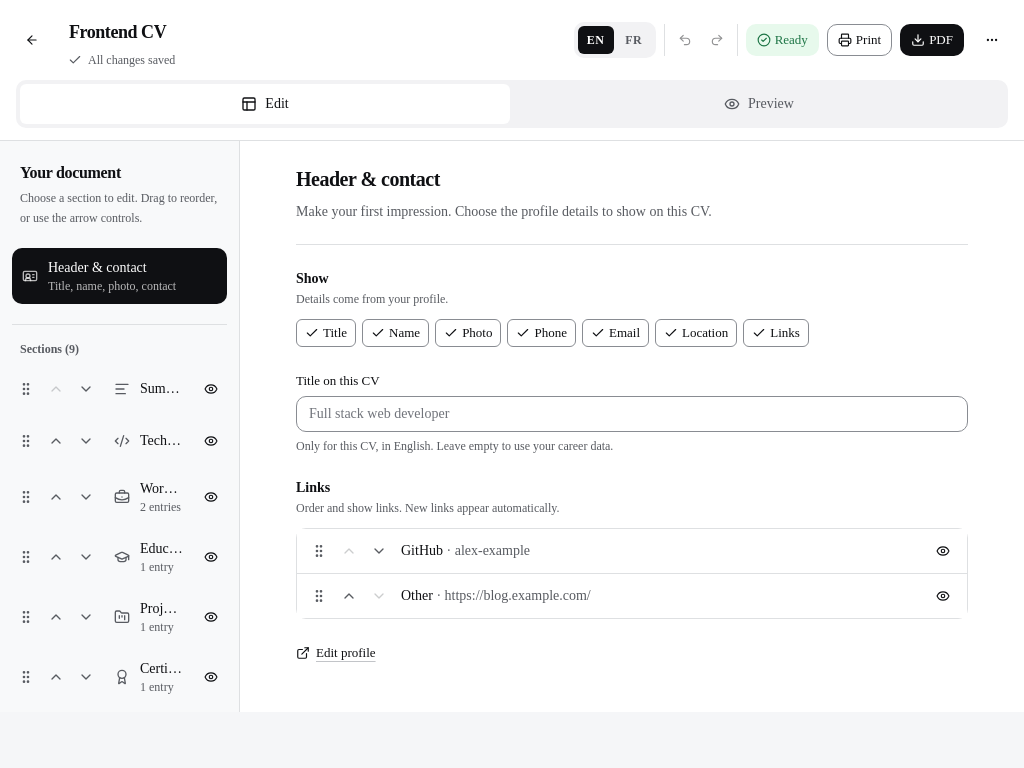
Test: CV builder › switches the CV to French and lists what must be translated first
Click the radio button with aria-label "French": click(634, 40) [616,26,652,54]
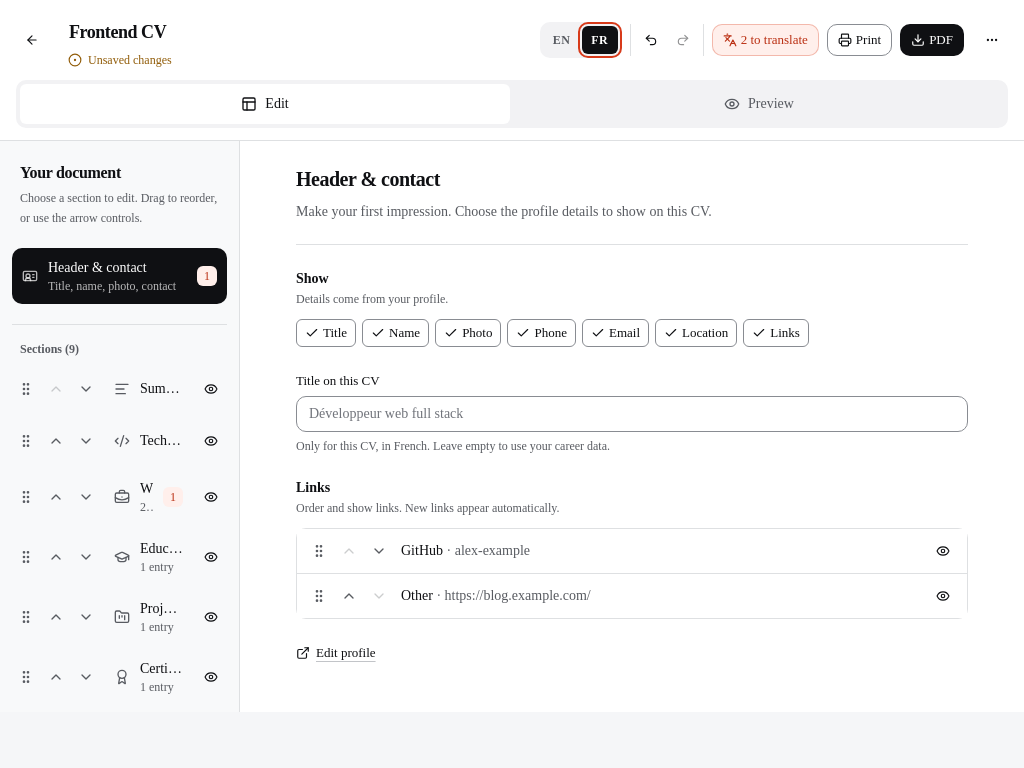
Click the button "2 to translate": click(765, 40) [712,24,819,56]
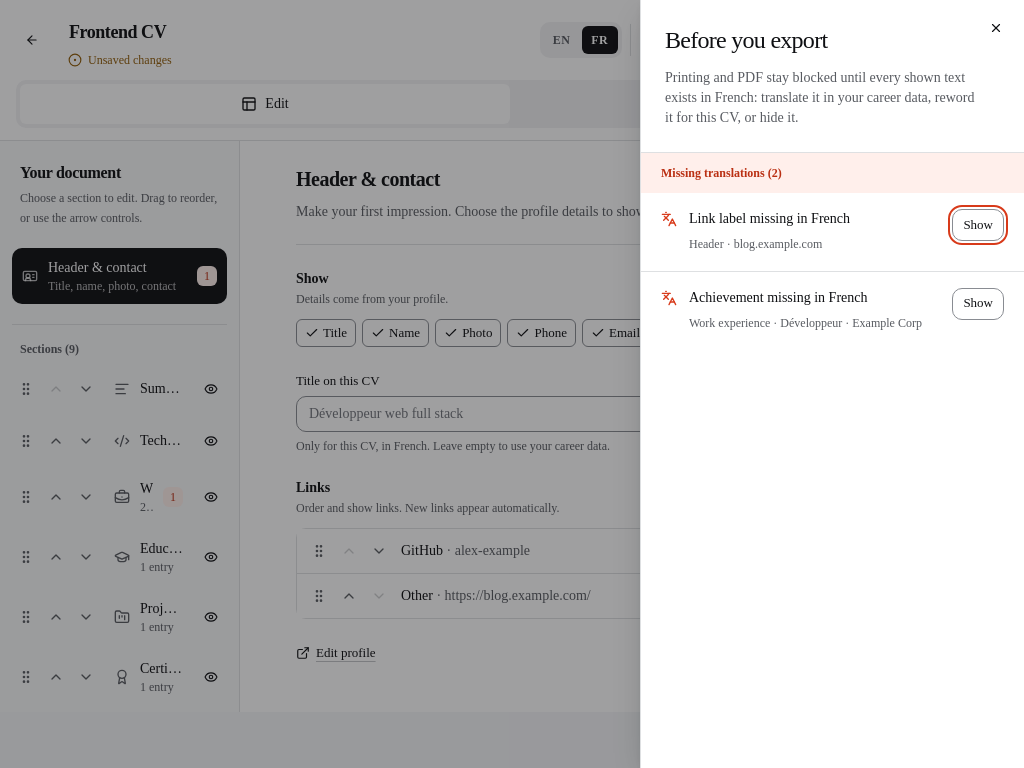
Expected: the text "Achievement missing in French" is shown, [689,290,868,304]
Click the button "Show" next to "Link label missing in French": click(978, 225) [952,209,1004,241]
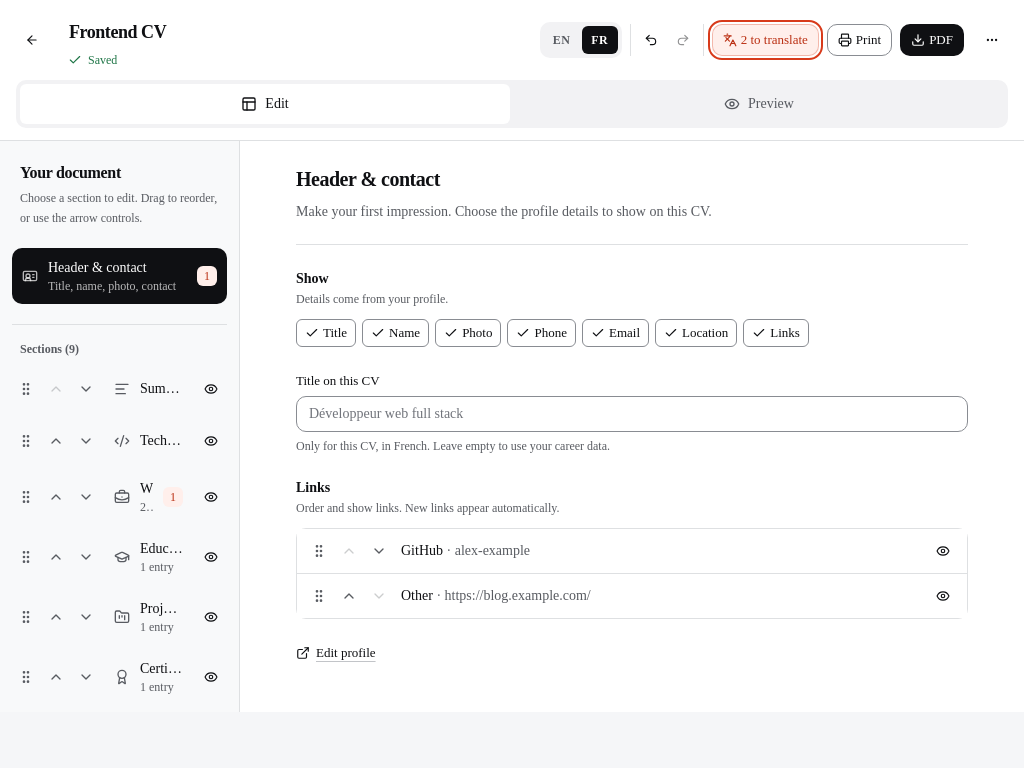
Expected: the heading "Before you export" is gone
